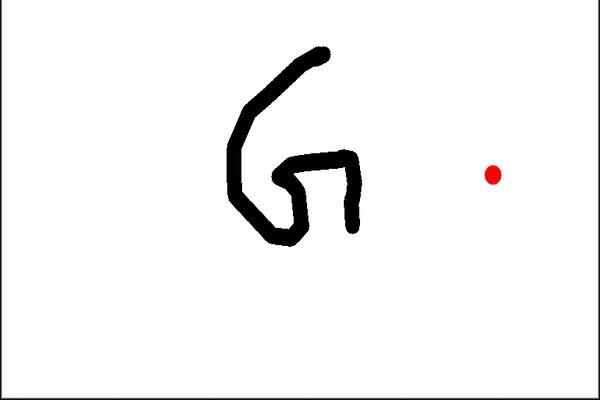G: (221, 40, 370, 249)
